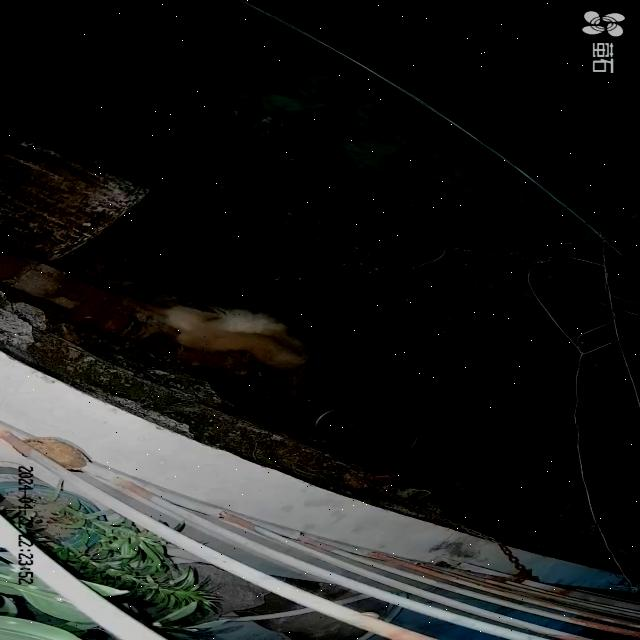dog: (146, 302, 342, 408)
